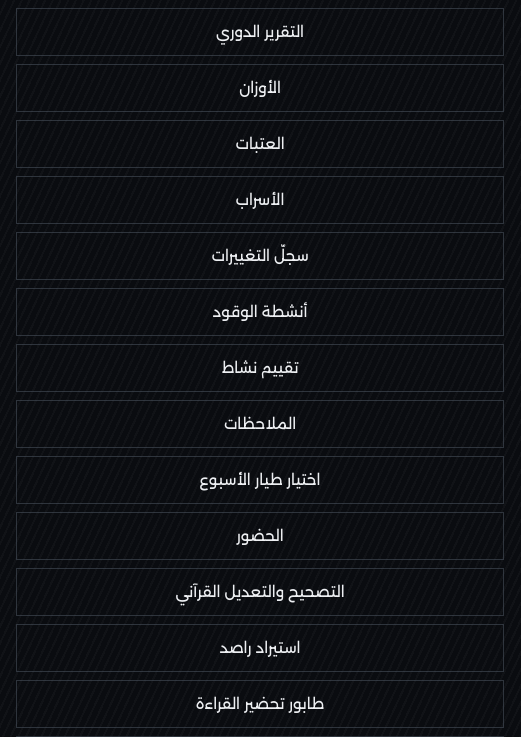
Test case: تقييم نشاط — و-٨ › يعرض بنود النشاط المختار ويحسب النتيجة من ردّ الخادم
(page scrolled)
Click the button "تقييم نشاط" at (260, 368), box x1=16 y1=344 x2=504 y2=392
(page scrolled)
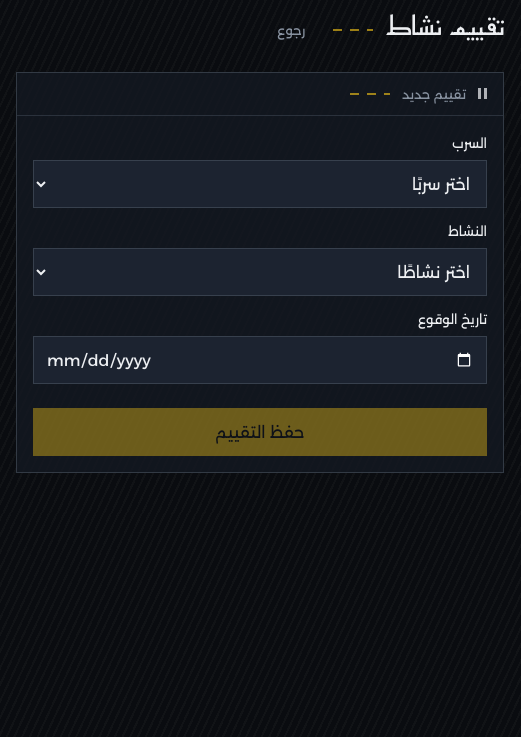
Select "سرب الفرقان" in the dropdown labelled "السرب" at (260, 184), box x1=33 y1=160 x2=487 y2=208
Select "الحفظ الجماعي" in the dropdown labelled "النشاط" at (260, 272), box x1=33 y1=248 x2=487 y2=296
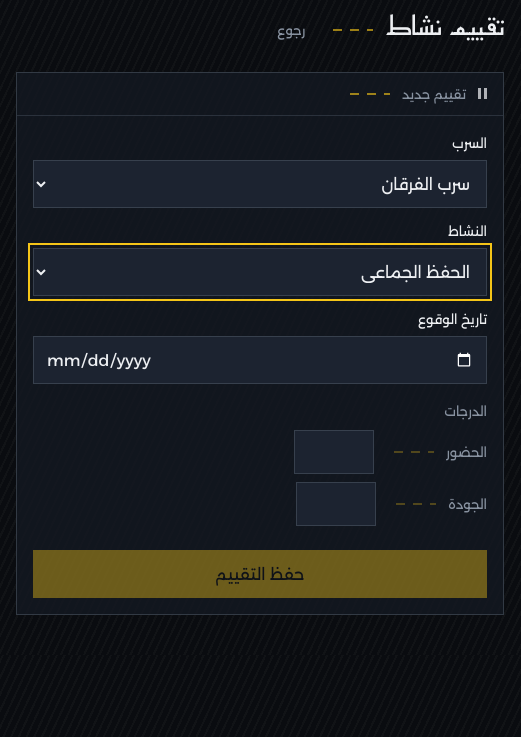
Check: the field named "درجة الحضور" is shown, box x1=294 y1=430 x2=374 y2=474
Type "2026-08-20" into the date field labelled "تاريخ الوقوع" at (260, 360), box x1=33 y1=336 x2=487 y2=384
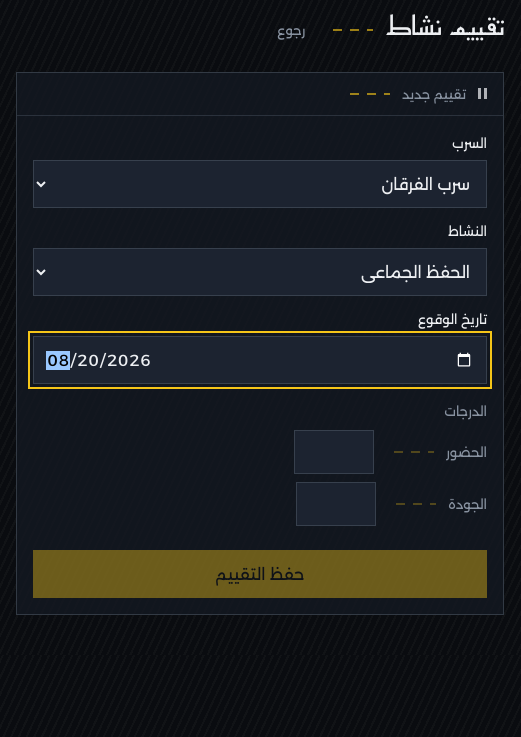
Type "100" into the field named "درجة الحضور" at (334, 452), box x1=294 y1=430 x2=374 y2=474
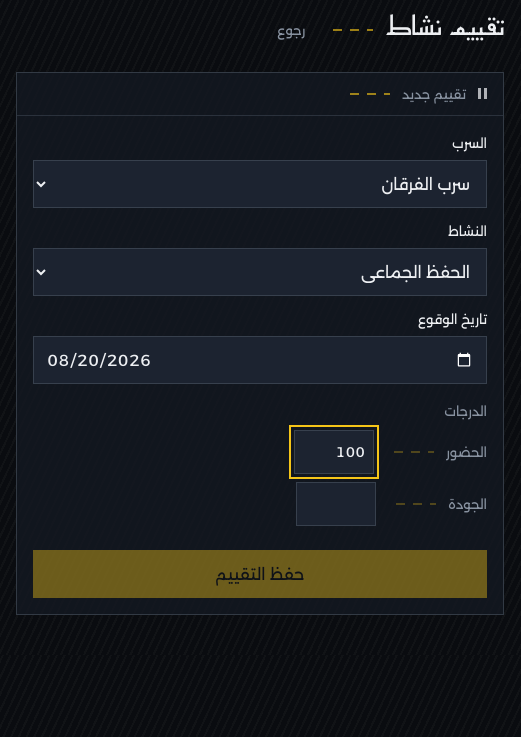
Type "90" into the field named "درجة الجودة" at (336, 504), box x1=296 y1=482 x2=376 y2=526
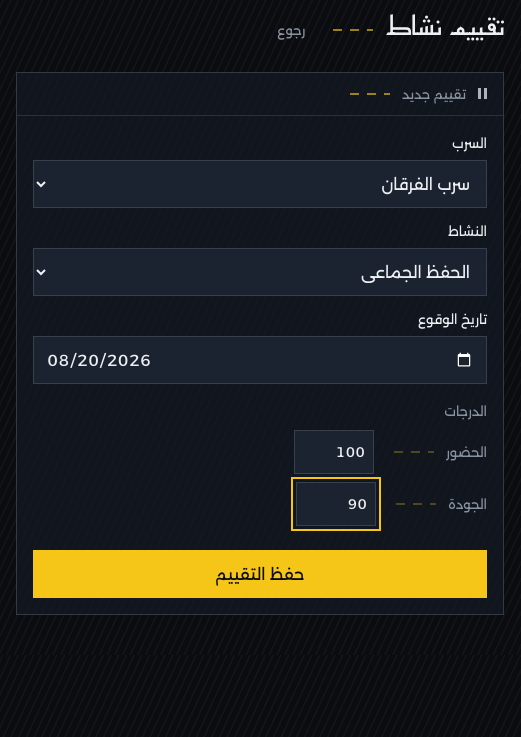
Click the button "حفظ التقييم" at (260, 574), box x1=33 y1=550 x2=487 y2=598
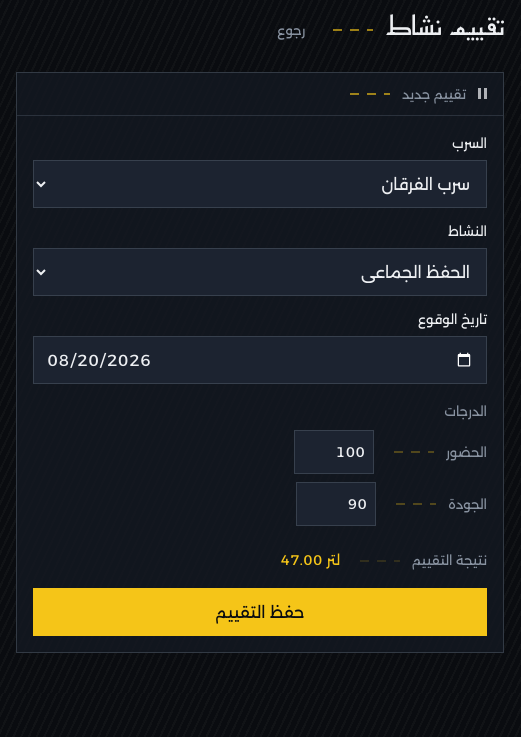
Check: the text "47.00 لتر" is shown, box x1=280 y1=552 x2=340 y2=570
